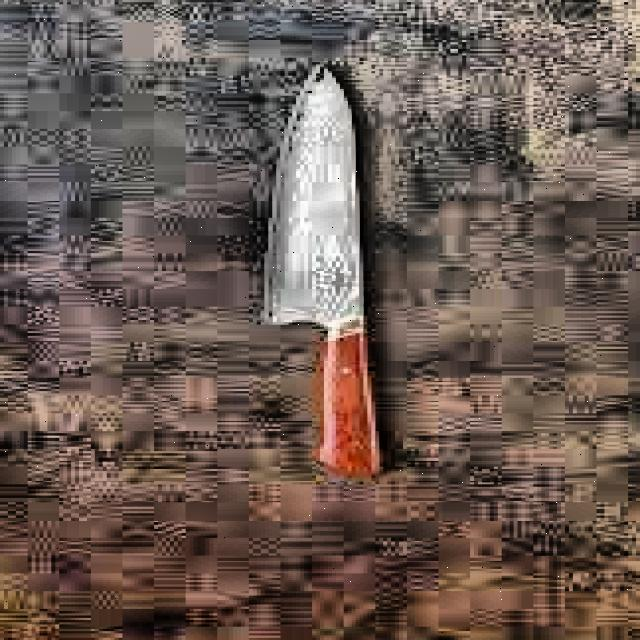knife: (265, 70, 383, 477)
